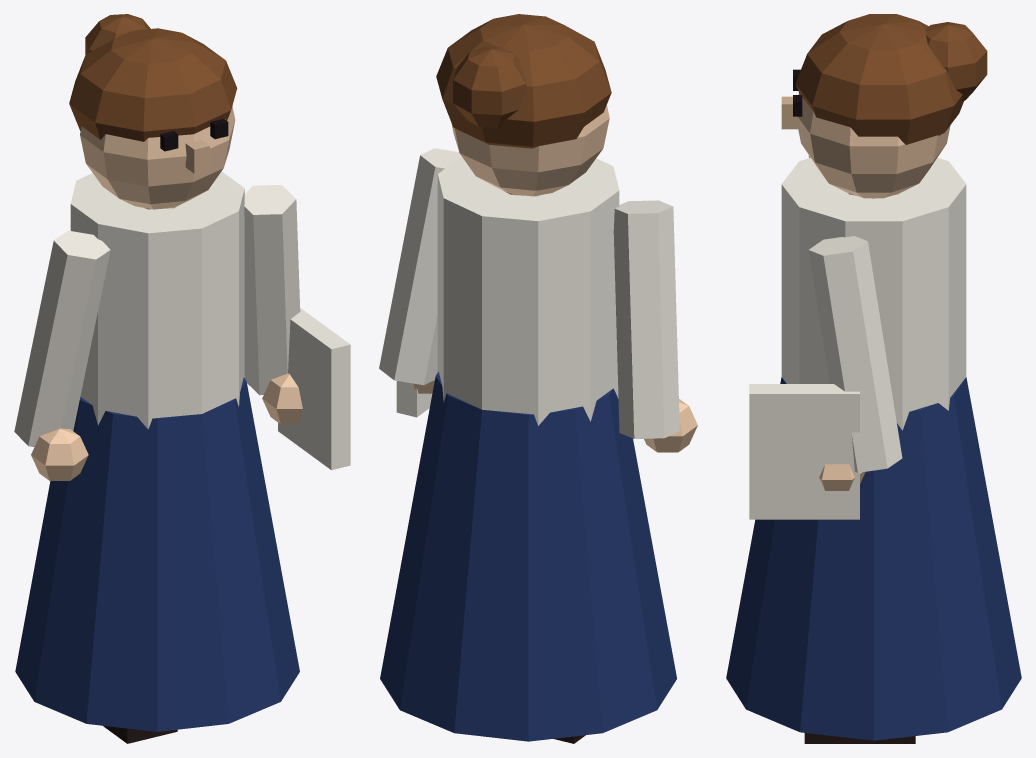
File: postac_hanna.glb
The picture shows the model from 3 angles, left to right: view 1: azimuth 30°, elevation 25°; view 2: azimuth 150°, elevation 25°; view 3: azimuth 270°, elevation 25°; orthographic projection. The views are drawn at different scales.
Visible parts, largest first — view 1: cialo, reka_p, reka_l, noga_l; view 2: cialo, reka_l, reka_p; view 3: cialo, reka_p, noga_p.
Part boxes in pixels (bbox=[...]): cialo: bbox=[15, 14, 299, 731]; reka_p: bbox=[244, 184, 350, 470]; reka_l: bbox=[14, 230, 110, 480]; noga_l: bbox=[103, 726, 177, 743]; cialo: bbox=[380, 14, 676, 741]; reka_l: bbox=[613, 200, 697, 452]; reka_p: bbox=[379, 148, 461, 417]; cialo: bbox=[726, 14, 1021, 740]; reka_p: bbox=[749, 236, 902, 519]; noga_p: bbox=[804, 733, 915, 743].
Bounding box in the file's own units: 0.7126 × 1.64 × 0.64.
